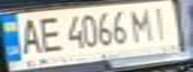0: (81, 11, 100, 48)
4: (63, 11, 84, 51)
6: (109, 7, 133, 46), (96, 9, 115, 47)
A: (15, 16, 45, 55)
E: (33, 14, 63, 53)
I: (145, 2, 175, 40)
M: (127, 4, 157, 43)
